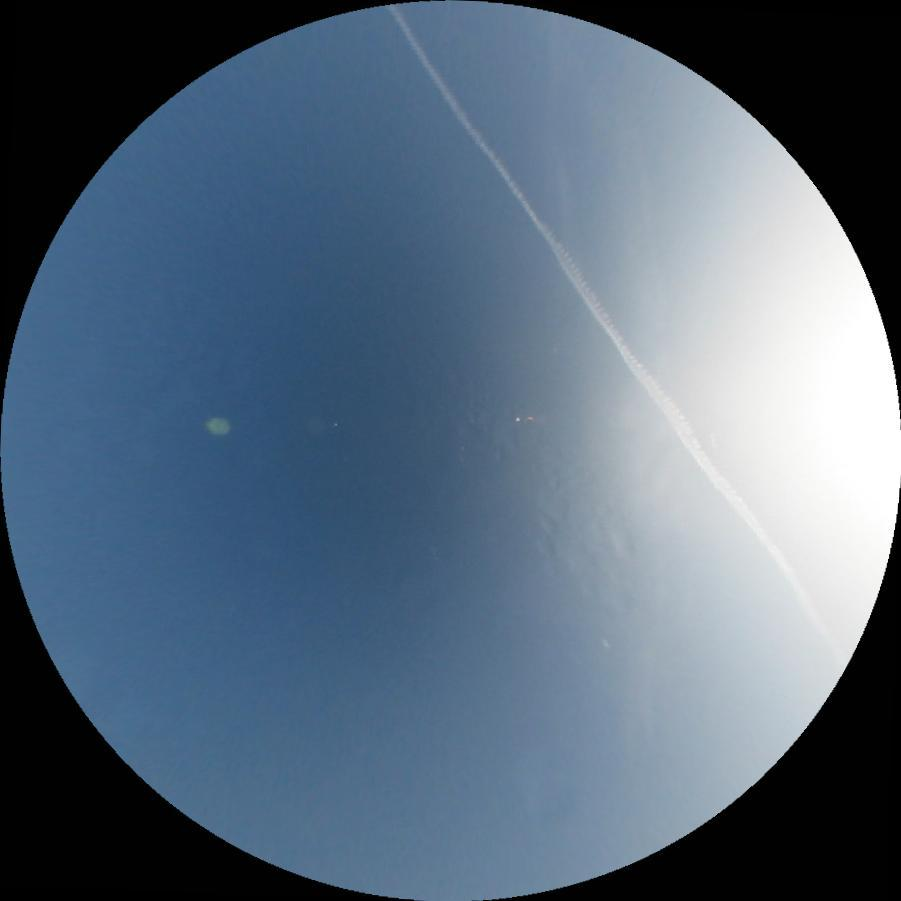contrail old: (378, 0, 831, 637)
